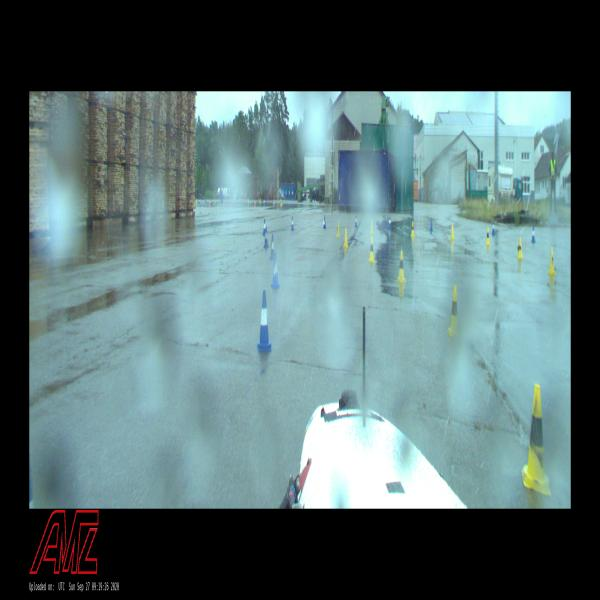blue_cone: (257, 290, 272, 352), (271, 252, 280, 289), (270, 235, 275, 259), (264, 226, 269, 248), (531, 225, 536, 243), (491, 221, 495, 236), (354, 214, 358, 227), (429, 218, 433, 231), (323, 214, 326, 229), (389, 216, 392, 229), (291, 217, 294, 230), (263, 219, 265, 236)
yellow_cone: (521, 384, 551, 497), (448, 287, 460, 337), (397, 249, 406, 282), (547, 247, 556, 275), (369, 236, 375, 262), (518, 236, 522, 260), (485, 227, 490, 246), (344, 228, 348, 248), (370, 219, 374, 238), (336, 222, 340, 238), (410, 221, 414, 236), (451, 223, 454, 238)
